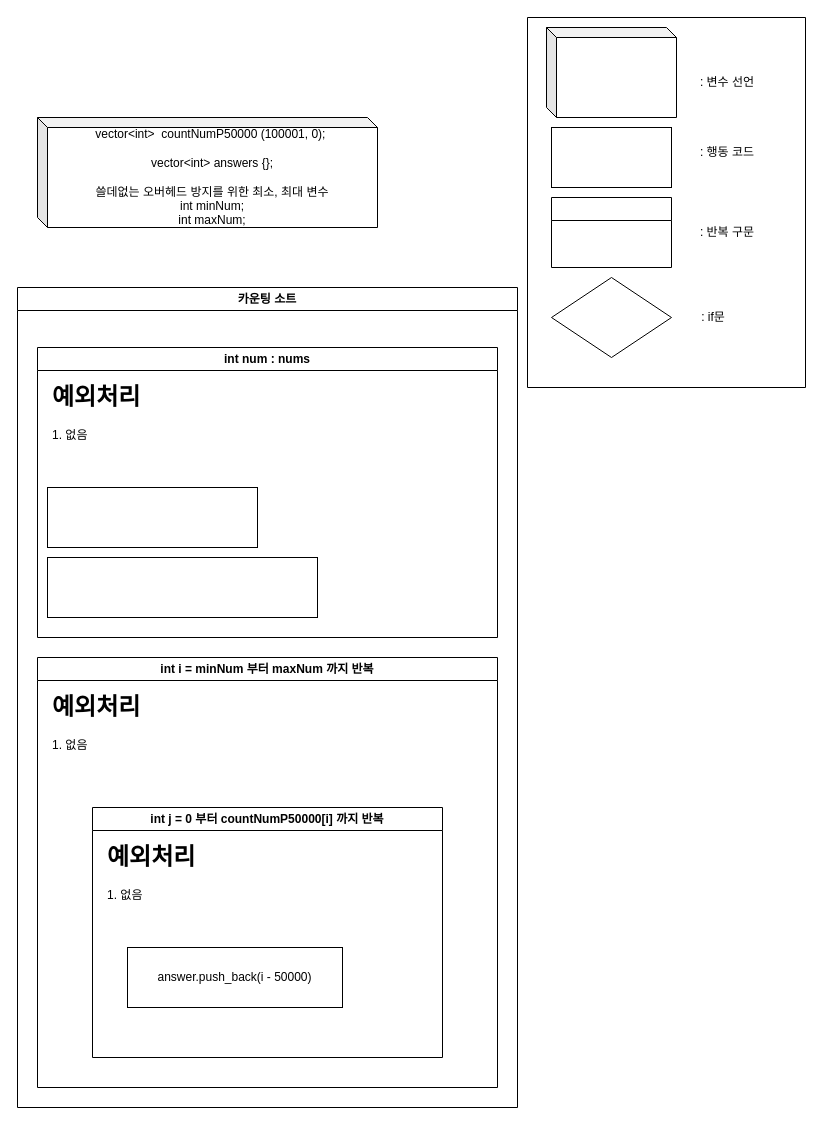
The diagram is 823 pixels wide and 1125 high, and some of its shapes have lost their labels. The shapes that lost their labels are listed below. From the top down, each one's centre as x and y in pixels, then its label:
At point (611, 232): "~ 동안".
At point (152, 517): "countNumP50000[num + 50000]++;".
At point (182, 587): "minNum = minNum > num ? num : minNum; maxNum = maxNum < num ? num : maxNum;".
